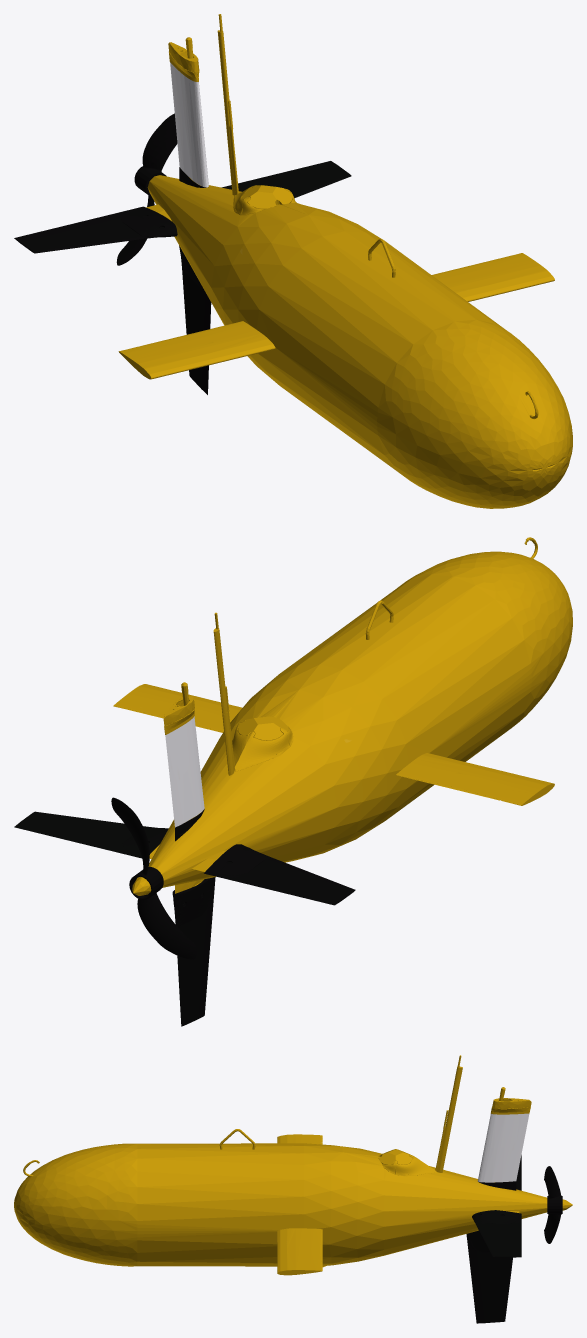
Rendered from autosub-long-range-v3.glb.
The picture shows the model from 3 angles, top to bottom: view 1: azimuth 30°, elevation 25°; view 2: azimuth 150°, elevation 25°; view 3: azimuth 270°, elevation 25°; orthographic projection. The views are drawn at different scales.
Parts seen in each view (by area): view 1: alr, alr_fin.002, alr_prop, alr_fin.001, alr_fin; view 2: alr, alr_fin, alr_fin.002, alr_prop, alr_fin.001; view 3: alr, alr_fin, alr_fin.001, alr_prop.
Part boxes in pixels (bbox=[...]): alr: bbox=[118, 14, 572, 508]; alr_fin.002: bbox=[14, 206, 177, 253]; alr_prop: bbox=[116, 113, 177, 265]; alr_fin.001: bbox=[221, 161, 351, 198]; alr_fin: bbox=[179, 245, 211, 394]; alr: bbox=[113, 537, 572, 895]; alr_fin: bbox=[172, 877, 215, 1026]; alr_fin.002: bbox=[204, 844, 355, 905]; alr_prop: bbox=[111, 797, 196, 959]; alr_fin.001: bbox=[14, 811, 168, 858]; alr: bbox=[14, 1055, 572, 1275]; alr_fin: bbox=[466, 1230, 512, 1323]; alr_fin.001: bbox=[472, 1210, 521, 1257]; alr_prop: bbox=[544, 1166, 562, 1243].
Size of the model in its own units: 31.2 by 28.76 by 54.35.
Materials: 5 (5 with a texture image).
